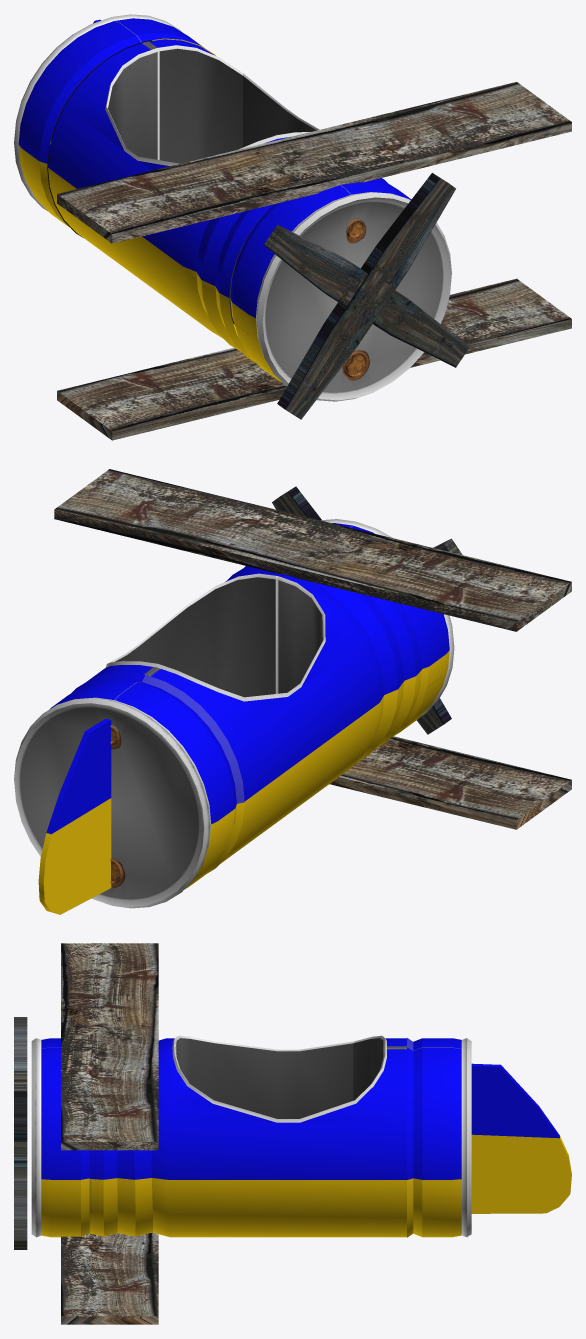
The model's file is hahahahah.glb.
The picture shows the model from 3 angles, top to bottom: view 1: azimuth 30°, elevation 25°; view 2: azimuth 150°, elevation 25°; view 3: azimuth 270°, elevation 25°; orthographic projection. The views are drawn at different scales.
Visible parts, largest first — view 1: kuZOV, vint; view 2: kuZOV, vint; view 3: kuZOV, vint.
Boxes of the visible parts, x1,y1,x2,y2 form: kuZOV: (14,14,571,440); vint: (264,173,469,419); kuZOV: (14,469,571,914); vint: (272,486,462,734); kuZOV: (31,943,571,1324); vint: (14,1017,27,1249).
Size of the model in its own units: 2.25 by 0.9964 by 2.67.
Materials: 2 (2 with a texture image).
